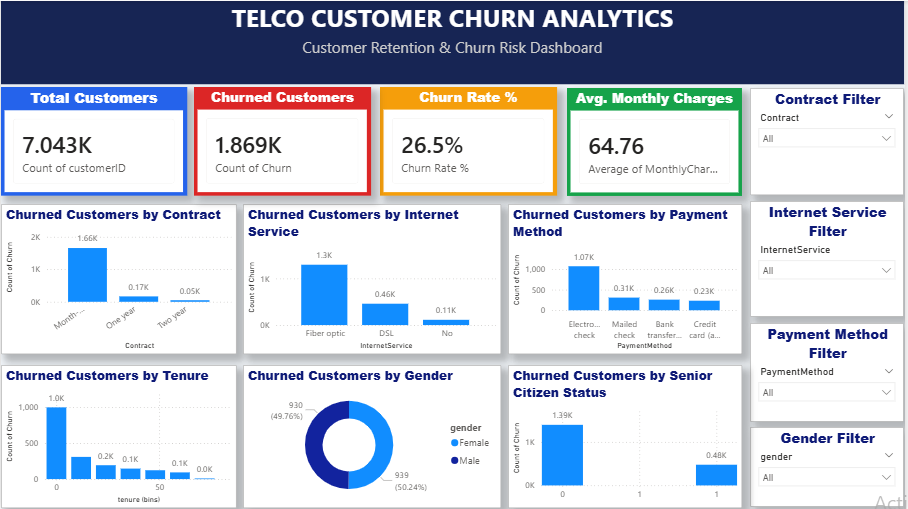

The page's visual inventory and layout, read from the dashboard file:
{"tool":"powerbi","page":{"name":"Page 1","canvas":[1280,720],"ordinal":0},"visuals":[{"type":"cardVisual","title":"Total Customers","fields":{"Data":["CountNonNull(WA_Fn-UseC_-Telco-Customer-Churn.customerID)"]},"box":[0,121.9,263.6,154.5],"z":0},{"type":"cardVisual","title":"Churn Rate %","fields":{"Data":["WA_Fn-UseC_-Telco-Customer-Churn.Churn Rate %"]},"box":[537.2,121.9,250.9,154.5],"z":1000},{"type":"cardVisual","title":"Avg. Monthly Charges","fields":{"Data":["Avg(WA_Fn-UseC_-Telco-Customer-Churn.MonthlyCharges)"]},"box":[802.2,123.3,248,153.1],"z":2000},{"type":"clusteredColumnChart","title":"Churned Customers by Contract","fields":{"Category":["WA_Fn-UseC_-Telco-Customer-Churn.Contract"],"Y":["CountNonNull(WA_Fn-UseC_-Telco-Customer-Churn.Churn)"]},"box":[0,287.7,334.5,212.6],"z":3000},{"type":"clusteredColumnChart","title":"Churned Customers by Internet Service","fields":{"Category":["WA_Fn-UseC_-Telco-Customer-Churn.InternetService"],"Y":["CountNonNull(WA_Fn-UseC_-Telco-Customer-Churn.Churn)"]},"box":[343,287.7,365.7,212.6],"z":4000},{"type":"clusteredColumnChart","title":"Churned Customers by Payment Method","fields":{"Category":["WA_Fn-UseC_-Telco-Customer-Churn.PaymentMethod"],"Y":["CountNonNull(WA_Fn-UseC_-Telco-Customer-Churn.Churn)"]},"box":[718.6,287.7,331.7,212.6],"z":5000},{"type":"clusteredColumnChart","title":"Churned Customers by Tenure","fields":{"Category":["WA_Fn-UseC_-Telco-Customer-Churn.tenure (bins)"],"Y":["CountNonNull(WA_Fn-UseC_-Telco-Customer-Churn.Churn)"]},"box":[0,515.9,334.5,202.7],"z":6000},{"type":"donutChart","title":"Churned Customers by Gender","fields":{"Category":["WA_Fn-UseC_-Telco-Customer-Churn.gender"],"Y":["CountNonNull(WA_Fn-UseC_-Telco-Customer-Churn.Churn)"]},"box":[343,515.9,365.7,202.7],"z":7000},{"type":"textbox","title":"TELCO CUSTOMER CHURN ANALYTICS ","box":[0,0,1280,117.6],"z":8000},{"type":"cardVisual","title":"Churned Customers","fields":{"Data":["CountNonNull(WA_Fn-UseC_-Telco-Customer-Churn.Churn)"]},"box":[273.5,121.9,250.9,154.5],"z":9000},{"type":"slicer","title":"Contract Filter","fields":{"Values":["WA_Fn-UseC_-Telco-Customer-Churn.Contract"]},"box":[1061.6,123.3,218.3,151.7],"z":9001},{"type":"slicer","title":"Internet Service Filter","fields":{"Values":["WA_Fn-UseC_-Telco-Customer-Churn.InternetService"]},"box":[1061.6,283.5,218.3,164.4],"z":9002},{"type":"slicer","title":"Payment Method Filter","fields":{"Values":["WA_Fn-UseC_-Telco-Customer-Churn.PaymentMethod"]},"box":[1061.6,456.4,218.3,140.3],"z":9003},{"type":"slicer","title":"Gender Filter","fields":{"Values":["WA_Fn-UseC_-Telco-Customer-Churn.gender"]},"box":[1061.6,603.8,218.3,113.4],"z":9004},{"type":"clusteredColumnChart","title":" Churned Customers by Senior Citizen Status","fields":{"Category":["WA_Fn-UseC_-Telco-Customer-Churn.SeniorCitizen"],"Y":["CountNonNull(WA_Fn-UseC_-Telco-Customer-Churn.Churn)"]},"box":[718.6,515.9,331.7,202.7],"z":9005}]}

Visuals, with their boxes in screenshot pixels (x1, y1, x2, y2), scaled from the page's 1280x720 canvas onto the 908x509 screenshot:
"Total Customers" cardVisual: box(0, 86, 187, 195)
"Churn Rate %" cardVisual: box(381, 86, 559, 195)
"Avg. Monthly Charges" cardVisual: box(569, 87, 745, 195)
"Churned Customers by Contract" clusteredColumnChart: box(0, 203, 237, 354)
"Churned Customers by Internet Service" clusteredColumnChart: box(243, 203, 503, 354)
"Churned Customers by Payment Method" clusteredColumnChart: box(510, 203, 745, 354)
"Churned Customers by Tenure" clusteredColumnChart: box(0, 365, 237, 508)
"Churned Customers by Gender" donutChart: box(243, 365, 503, 508)
"TELCO CUSTOMER CHURN ANALYTICS " textbox: box(0, 0, 907, 83)
"Churned Customers" cardVisual: box(194, 86, 372, 195)
"Contract Filter" slicer: box(753, 87, 907, 194)
"Internet Service Filter" slicer: box(753, 200, 907, 317)
"Payment Method Filter" slicer: box(753, 323, 907, 422)
"Gender Filter" slicer: box(753, 427, 907, 507)
" Churned Customers by Senior Citizen Status" clusteredColumnChart: box(510, 365, 745, 508)
